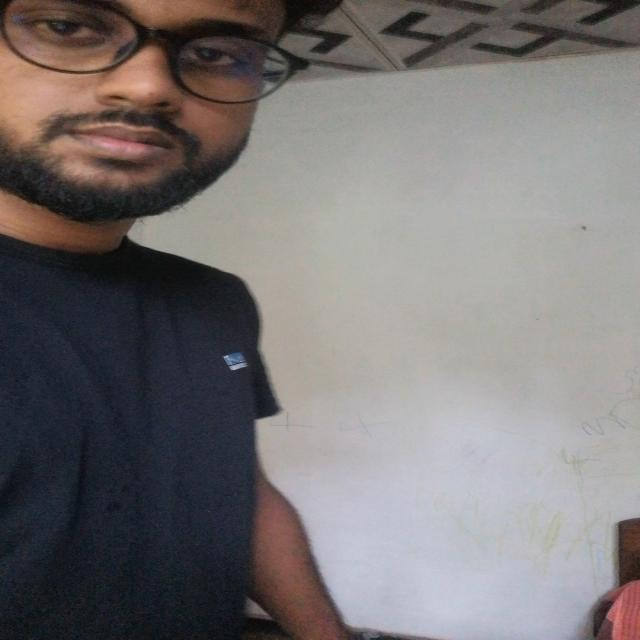Person: (0, 0, 356, 640)
